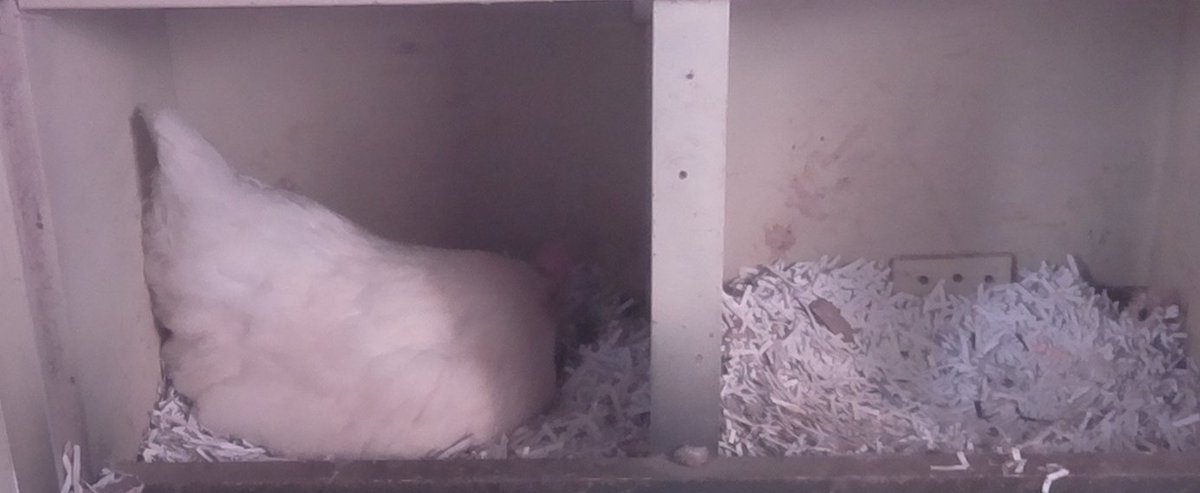hen: (130, 94, 603, 465)
